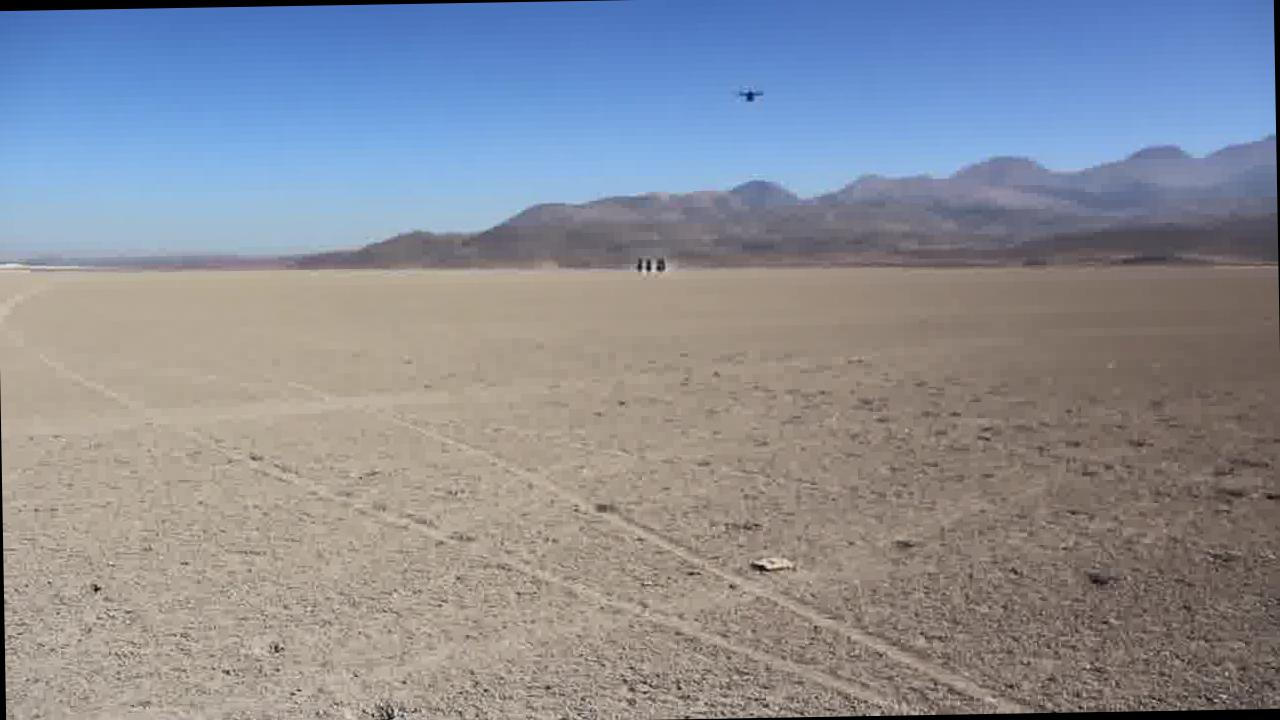drone: (734, 82, 768, 106)
